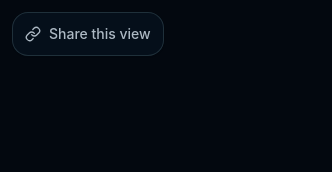
Test: ShareButton › shows the link, selected, when the clipboard is refused
Click the button "Share this view" at (88, 34), box [12,12,164,56]
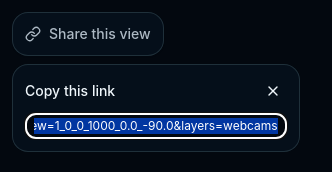
Result: the field labelled "Copy this link" holds "https://orbitalgaze.com/?view=1_0_0_1000_0.0_-90.0&layers=webcams" at [25,113,287,139]
